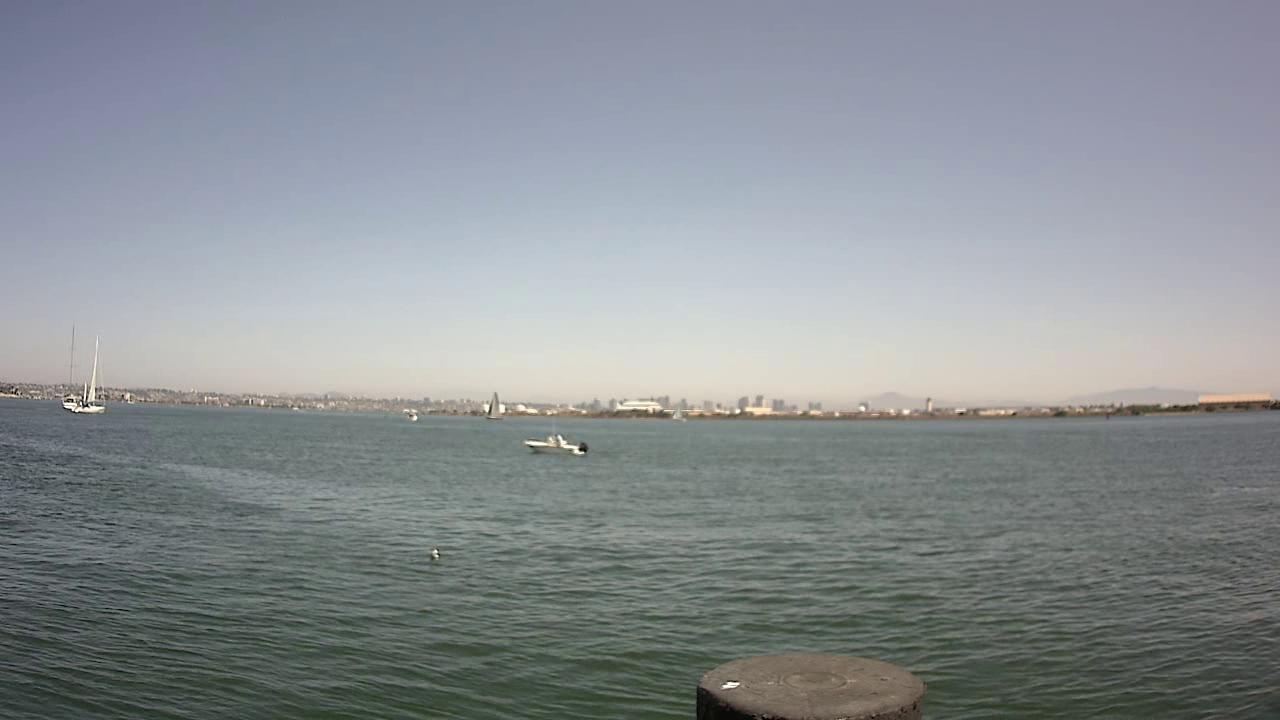target: (517, 423, 595, 468)
